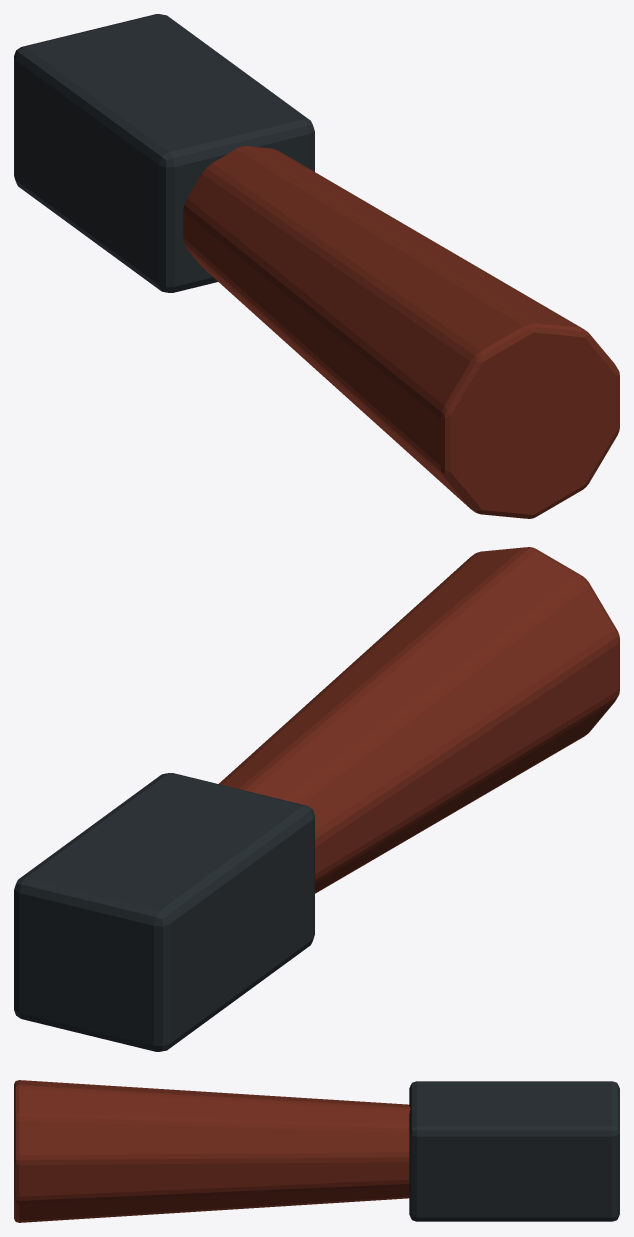
The model's file is quiver_full_LOD2.glb.
The picture shows the model from 3 angles, top to bottom: view 1: azimuth 30°, elevation 25°; view 2: azimuth 150°, elevation 25°; view 3: azimuth 270°, elevation 25°; orthographic projection. The views are drawn at different scales.
Visible parts, largest first — view 1: LOD2_Body, LOD2_ArrowCluster; view 2: LOD2_Body, LOD2_ArrowCluster; view 3: LOD2_Body, LOD2_ArrowCluster.
Boxes of the visible parts, x1=… form: LOD2_Body: x1=183, y1=146, x2=619, y2=518; LOD2_ArrowCluster: x1=14, y1=14, x2=314, y2=292; LOD2_Body: x1=219, y1=547, x2=619, y2=893; LOD2_ArrowCluster: x1=14, y1=773, x2=314, y2=1051; LOD2_Body: x1=14, y1=1080, x2=410, y2=1222; LOD2_ArrowCluster: x1=409, y1=1081, x2=619, y2=1221.
Bounding box in the file's own units: 0.2651 × 0.2751 × 1.15.
